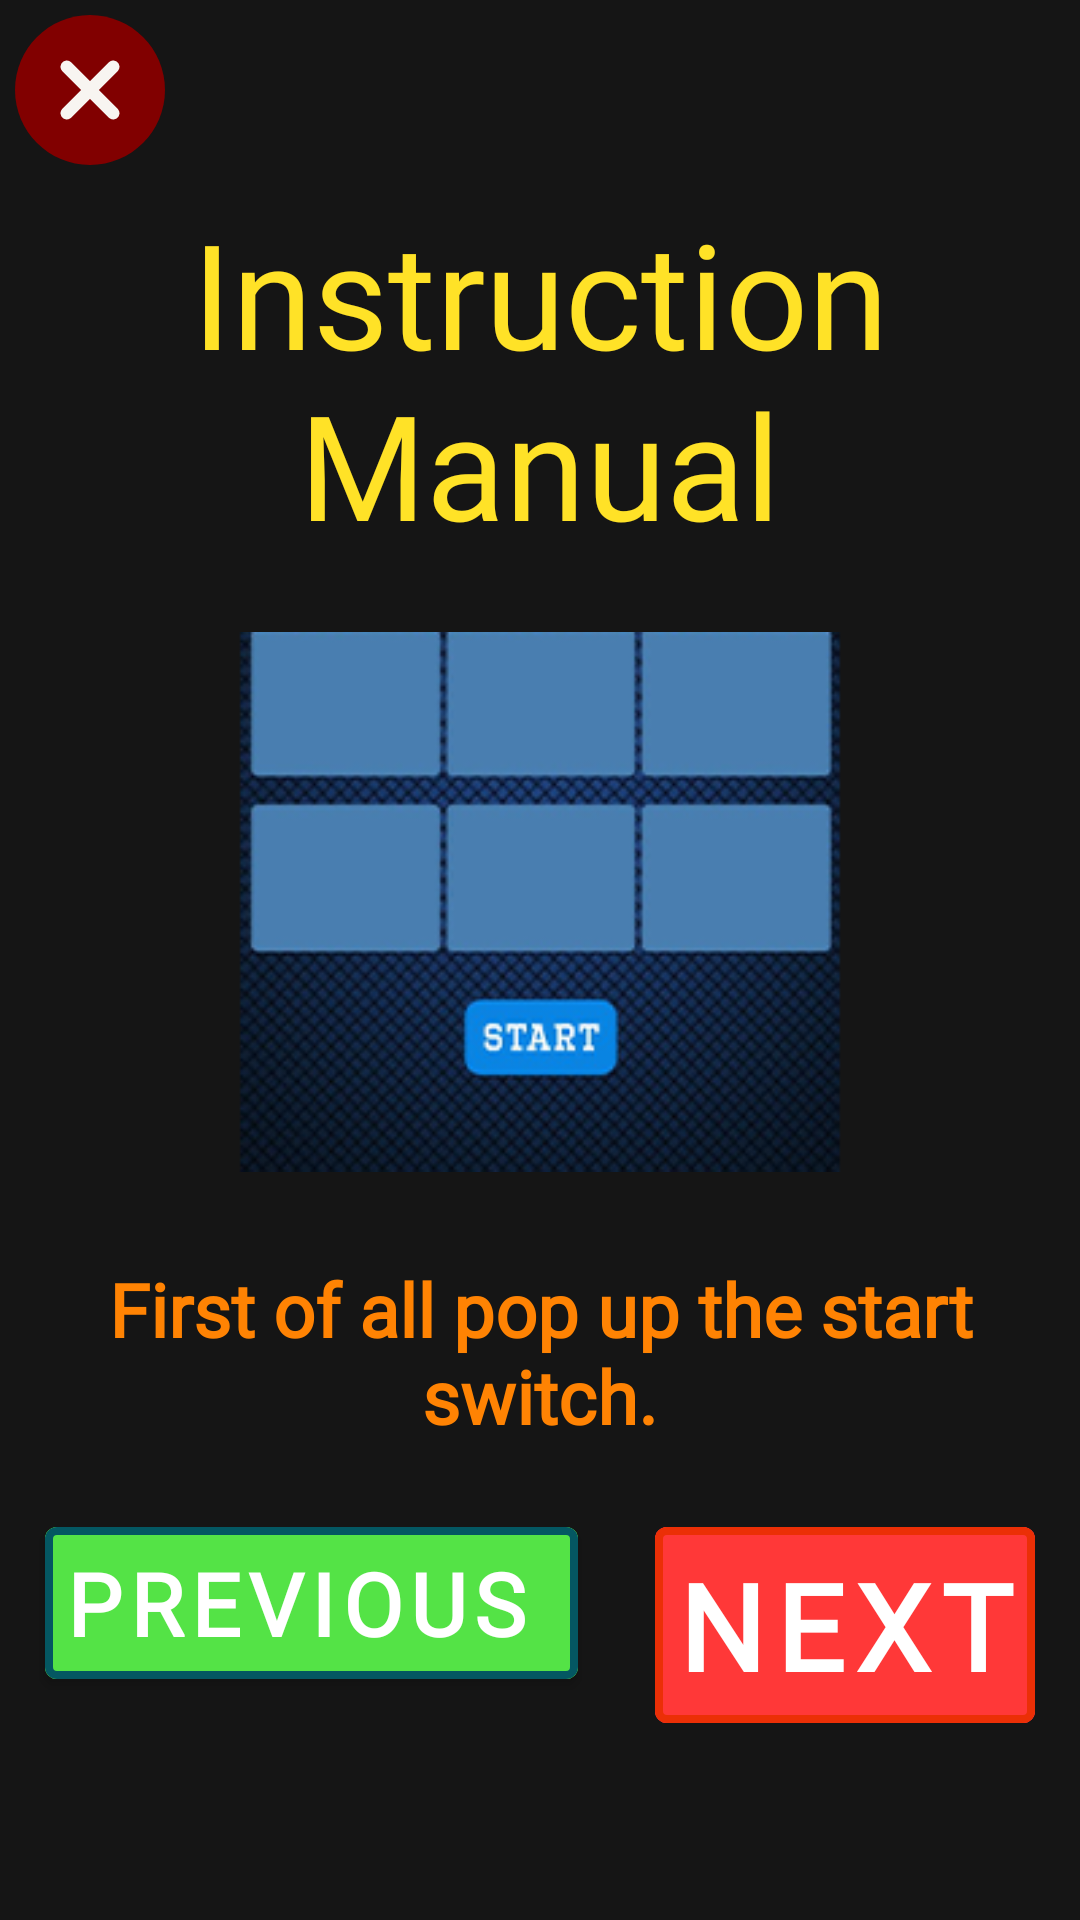

Screen size 1080 x 1920. Icon name, then its box in pixels as [x1=x1, y1=y1, x2=x2, y2=y2]:
remove: [x1=15, y1=15, x2=165, y2=165]
